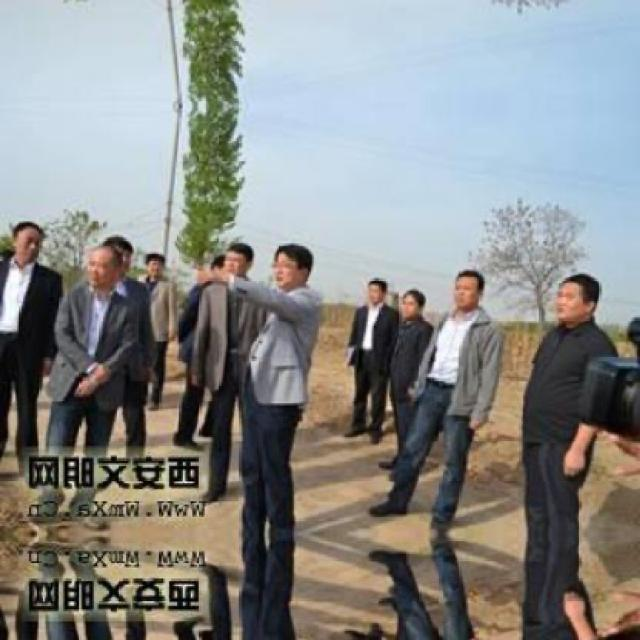sin casco: (393, 235, 528, 342), (519, 262, 611, 354), (246, 232, 341, 321), (205, 220, 264, 303), (362, 278, 422, 347), (74, 232, 136, 294), (0, 197, 47, 275), (350, 258, 395, 328)
